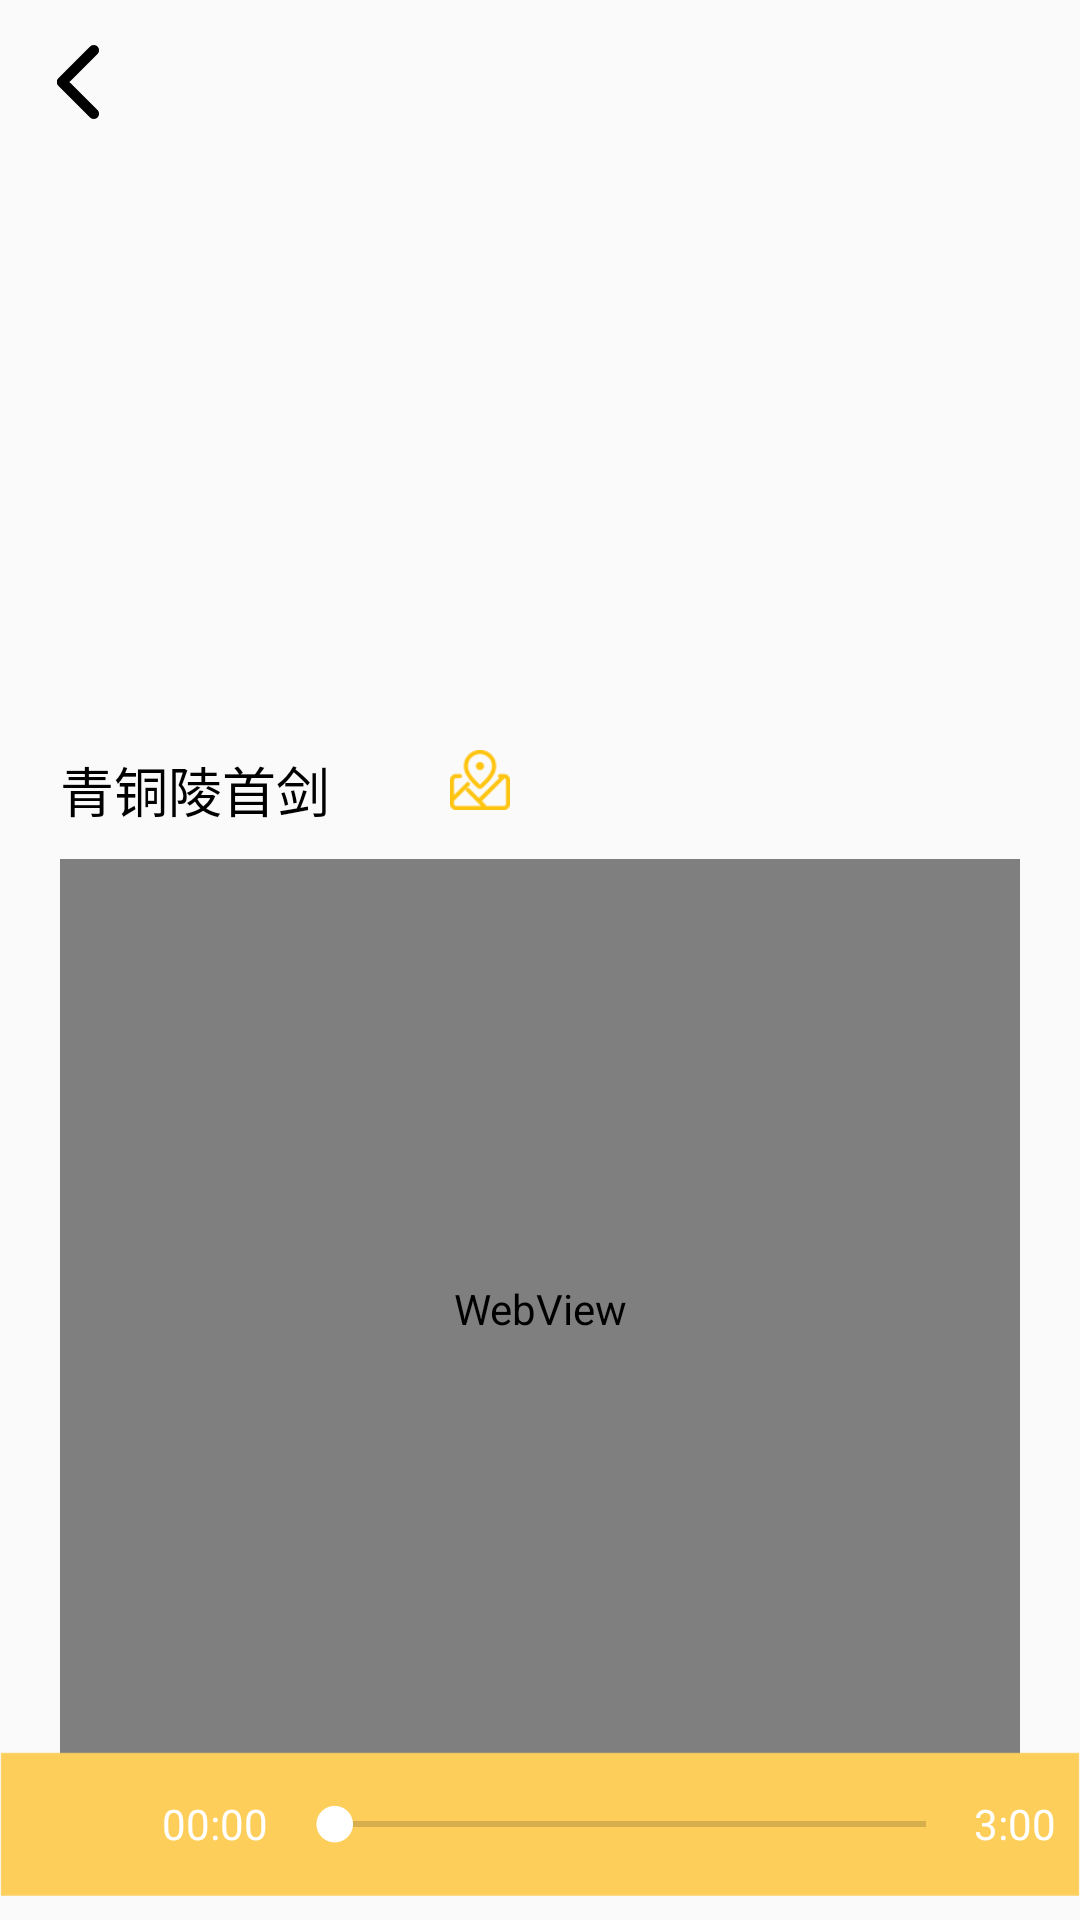

Where to tap for icons on this 1080 x 1920 app screen, as (x=x, y=y):
location: (x=480, y=780)
toback: (x=78, y=82)
